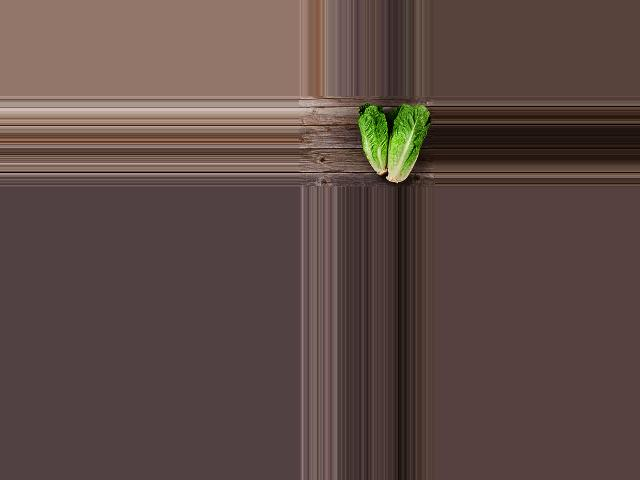lettuce: (385, 101, 432, 186)
